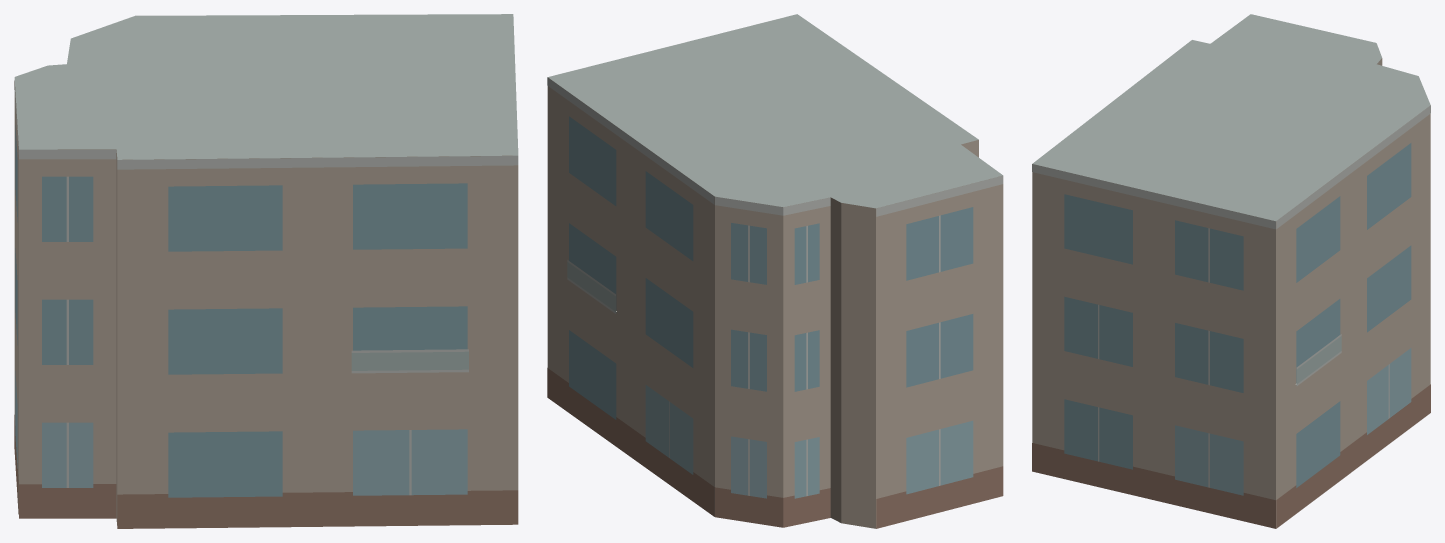
File: survey-upis-32739132.glb
3 views of the same model, side by side, from view 1: azimuth 30°, elevation 25°; view 2: azimuth 150°, elevation 25°; view 3: azimuth 270°, elevation 25° (orthographic). The views are drawn at different scales.
Parts seen in each view (by area): view 1: survey-upis-32739132.tmp; view 2: survey-upis-32739132.tmp; view 3: survey-upis-32739132.tmp.
Boxes of the visible parts, box(x1,y1,x2,y2) form: survey-upis-32739132.tmp: box(14, 14, 518, 528); survey-upis-32739132.tmp: box(547, 14, 1003, 528); survey-upis-32739132.tmp: box(1032, 14, 1430, 528).
Size of the model in its own units: 13.23 by 9.15 by 10.76.
